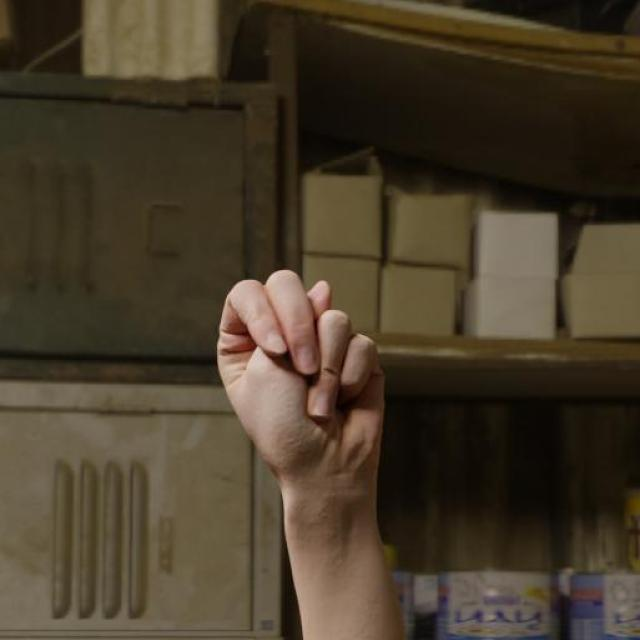N: (212, 264, 398, 544)
